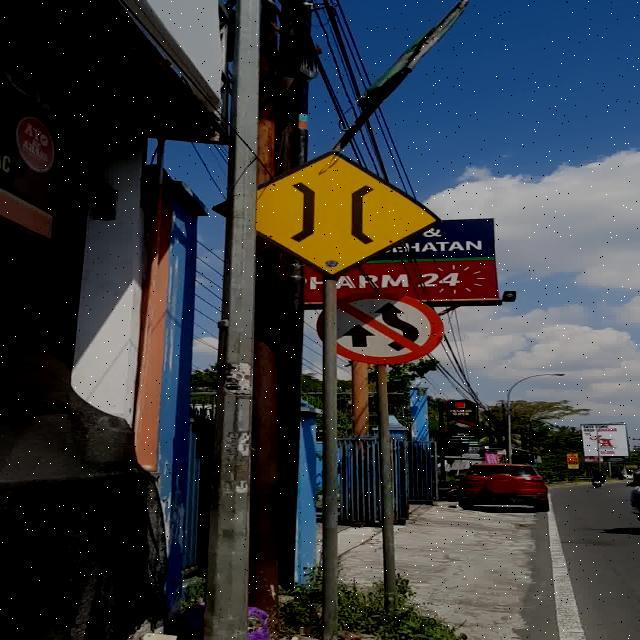Dilarang Mendahului: (338, 292, 444, 364)
